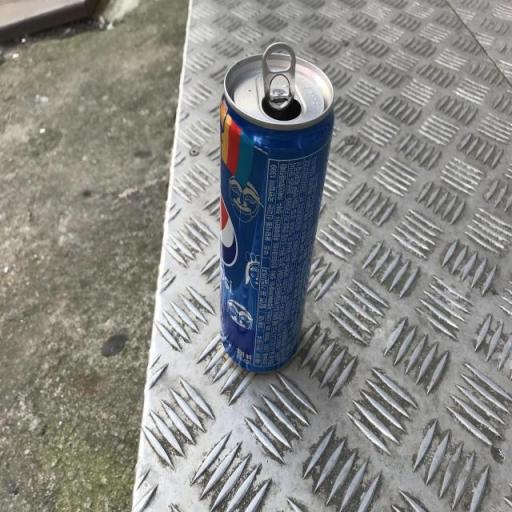metal: (197, 34, 346, 378)
